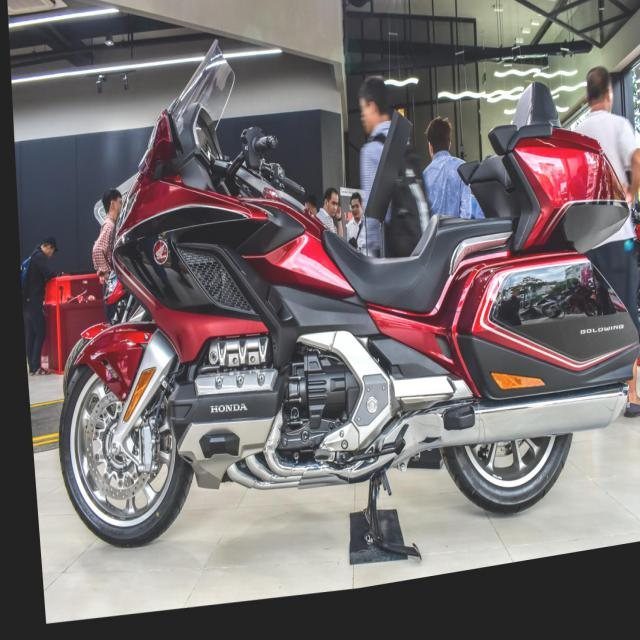Gold Wing: (25, 0, 640, 599)
